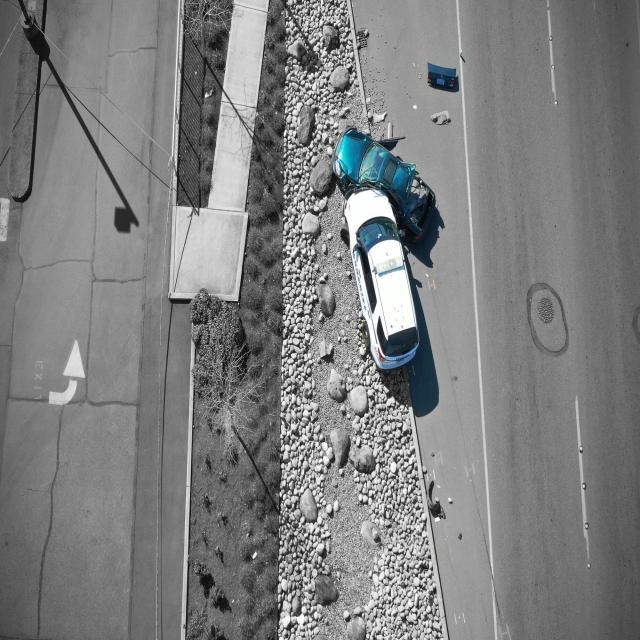Accident: (333, 126, 440, 370)
